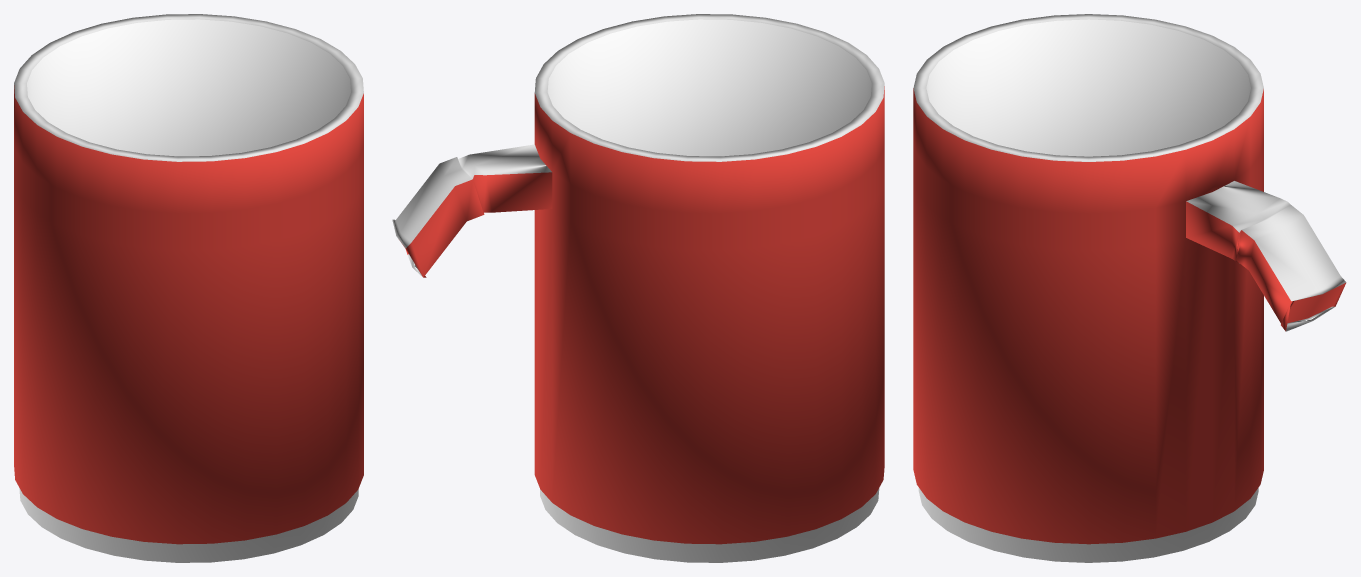
The model's file is tazap.glb.
The picture shows the model from 3 angles, left to right: view 1: azimuth 30°, elevation 25°; view 2: azimuth 150°, elevation 25°; view 3: azimuth 270°, elevation 25°; orthographic projection.
Parts seen in each view (by area): view 1: Cilindro; view 2: Cilindro; view 3: Cilindro.
Boxes of the visible parts, x1,y1,x2,y2 form: Cilindro: (14, 14, 363, 562); Cilindro: (392, 14, 884, 562); Cilindro: (913, 14, 1346, 562).
Bounding box in the file's own units: 2.41 × 2.54 × 2.47.
